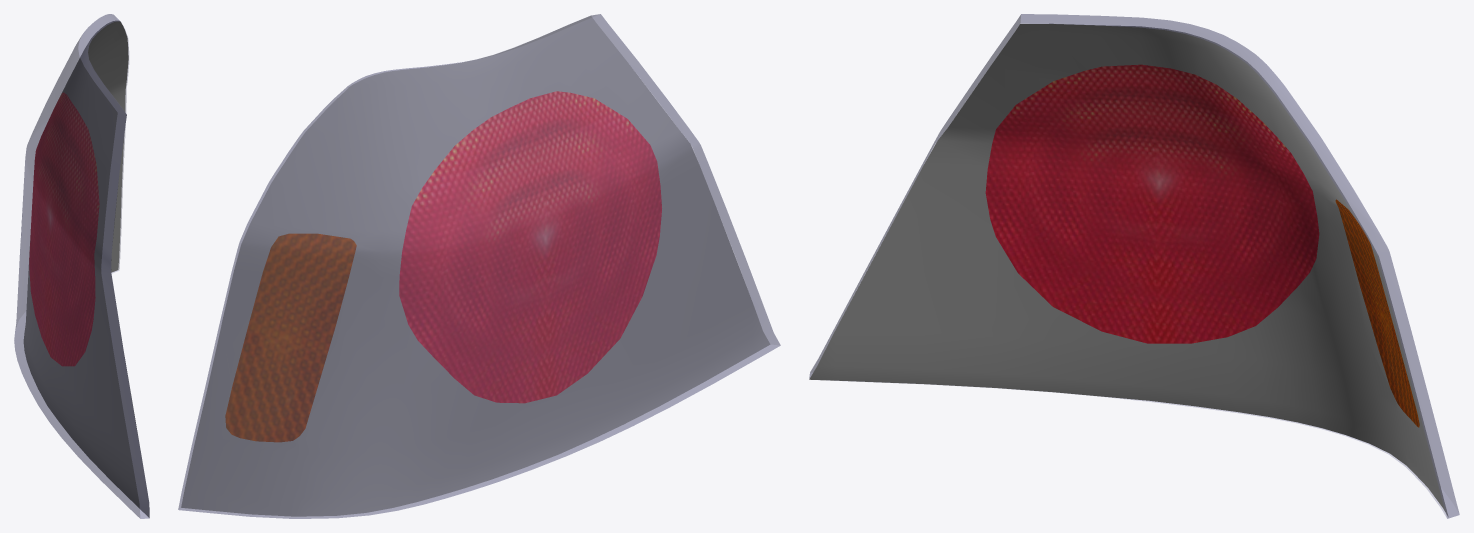
3 renders of one model, left to right at view 1: azimuth 30°, elevation 25°; view 2: azimuth 150°, elevation 25°; view 3: azimuth 270°, elevation 25°, orthographic. The views are drawn at different scales.
Visible parts, largest first — view 1: U416_541C_L_U416_541C_L_4_DTaSI, U416_541C_L_1_DaS_U416_541C_L, U416_541C_L_U416_541C_L_3_N; view 2: U416_541C_L_U416_541C_L_4_DTaSI, U416_541C_L_1_DaS_U416_541C_L, U416_541C_L_U416_541C_L_3_N, U416_541C_L_U416_541C_L_2_N; view 3: U416_541C_L_1_DaS_U416_541C_L, U416_541C_L_U416_541C_L_3_N, U416_541C_L_U416_541C_L_4_DTaSI, U416_541C_L_U416_541C_L_2_N.
Part boxes in pixels (x1,y1,x2,y2): U416_541C_L_U416_541C_L_4_DTaSI: (14,14,149,518); U416_541C_L_1_DaS_U416_541C_L: (23,20,149,517); U416_541C_L_U416_541C_L_3_N: (29,92,99,366); U416_541C_L_U416_541C_L_4_DTaSI: (178,14,780,518); U416_541C_L_1_DaS_U416_541C_L: (181,16,770,516); U416_541C_L_U416_541C_L_3_N: (399,91,661,403); U416_541C_L_U416_541C_L_2_N: (225,233,356,442); U416_541C_L_1_DaS_U416_541C_L: (809,23,1448,516); U416_541C_L_U416_541C_L_3_N: (985,64,1319,343); U416_541C_L_U416_541C_L_4_DTaSI: (809,14,1459,518); U416_541C_L_U416_541C_L_2_N: (1335,199,1419,427).
Size of the model in its own units: 20.23 by 26.92 by 38.91.
